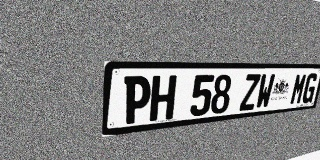5: (189, 75, 215, 117)
8: (210, 74, 233, 114)
G: (301, 73, 319, 104)
H: (149, 75, 177, 122)
M: (289, 73, 308, 105)
P: (122, 76, 152, 125)
W: (255, 74, 275, 109)
Z: (239, 74, 261, 111)
